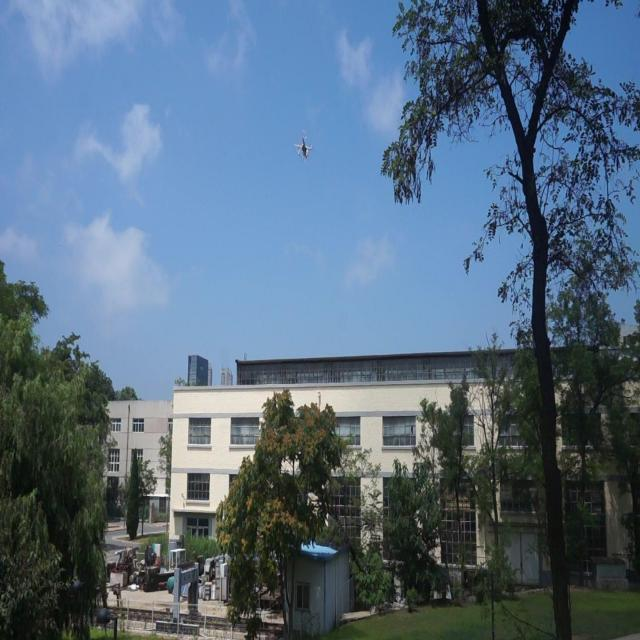UAV: (294, 130, 314, 163)
